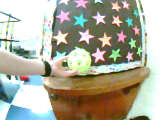Ball: (67, 48, 90, 71)
